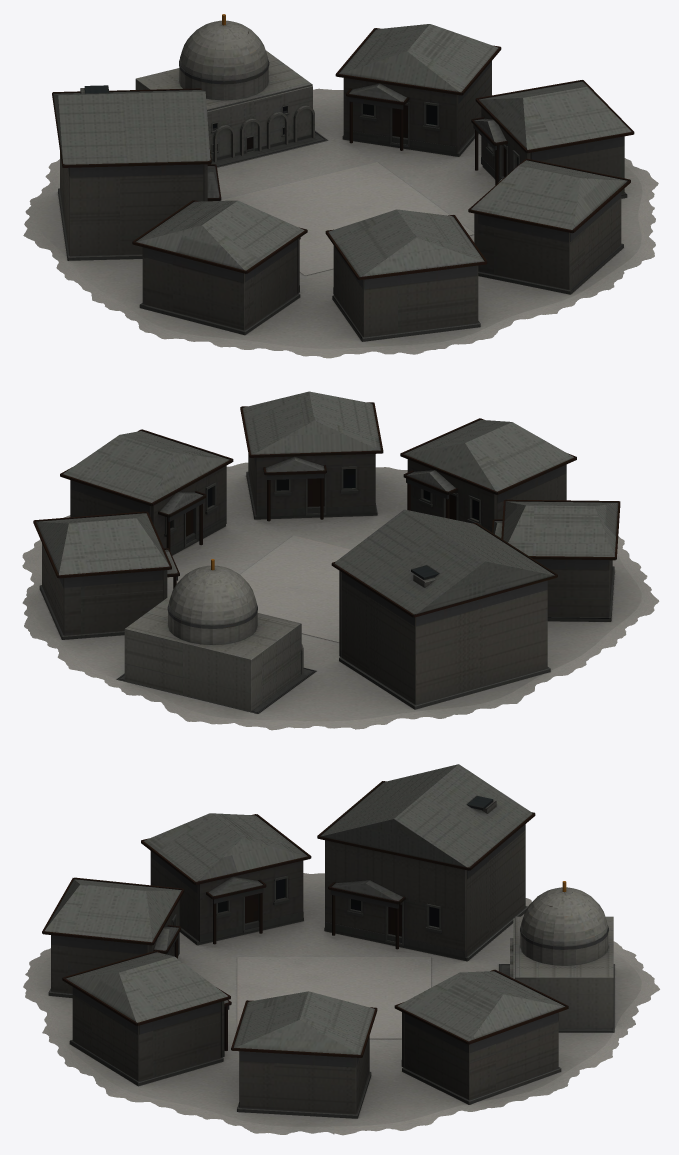
File: modern-town-small-a-westafrica.glb
The picture shows the model from 3 angles, top to bottom: view 1: azimuth 30°, elevation 25°; view 2: azimuth 150°, elevation 25°; view 3: azimuth 270°, elevation 25°; orthographic projection.
Parts seen in each view (by area): view 1: LOD0; view 2: LOD0; view 3: LOD0.
Boxes of the visible parts, bbox=[...] form: LOD0: bbox=[23, 14, 658, 358]; LOD0: bbox=[22, 391, 659, 730]; LOD0: bbox=[23, 764, 659, 1135].
Size of what is drawn, in the model's own units: 3.95 by 0.9127 by 4.04.
Materials: 3 (3 with a texture image).
